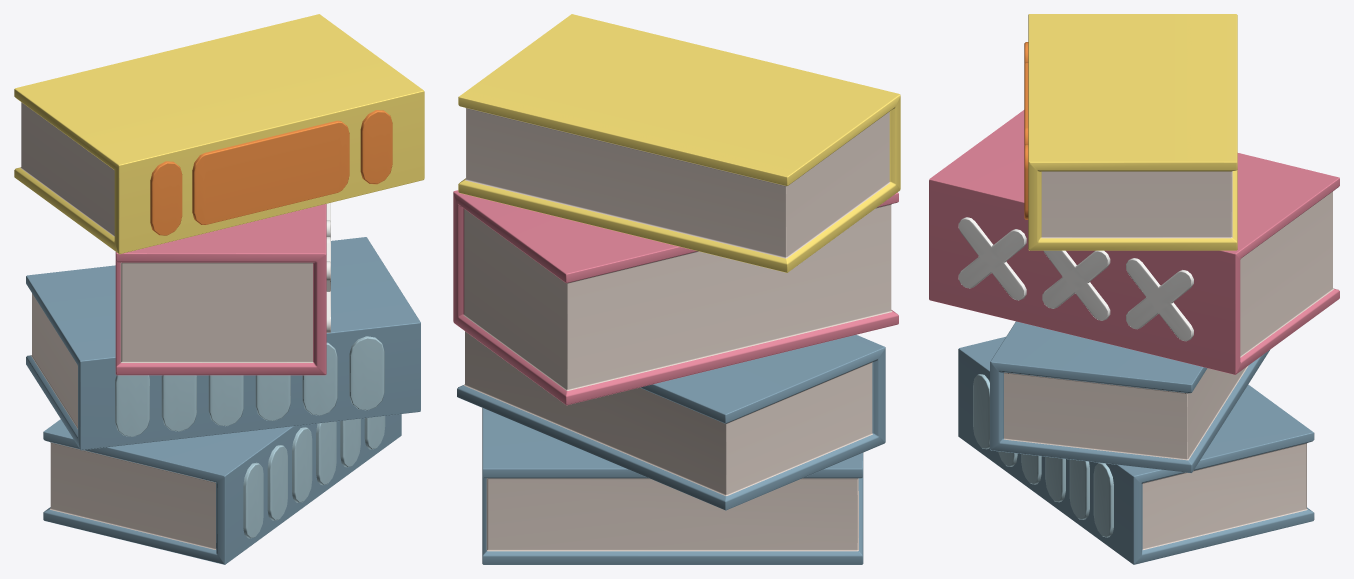
Rendered from Book_3.glb.
3 renders of one model, left to right at view 1: azimuth 30°, elevation 25°; view 2: azimuth 150°, elevation 25°; view 3: azimuth 270°, elevation 25°, orthographic. The views are drawn at different scales.
Visible parts, largest first — view 1: Books_4; view 2: Books_4; view 3: Books_4.
Part boxes in pixels (x1,y1,x2,y2): Books_4: (14, 14, 424, 564); Books_4: (453, 14, 900, 564); Books_4: (929, 14, 1339, 564).
Size of the model in its own units: 0.4224 by 0.445 by 0.4258.
1 material, 1 textured.
